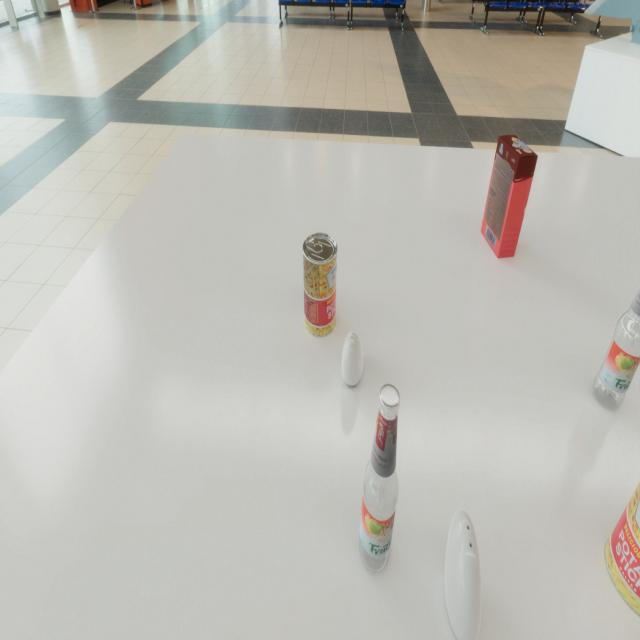Bottle: (358, 384, 400, 575)
HelloPanda: (481, 135, 538, 258)
Potato_sticks: (302, 232, 338, 338)
Salt: (444, 509, 482, 640), (342, 331, 364, 386)
